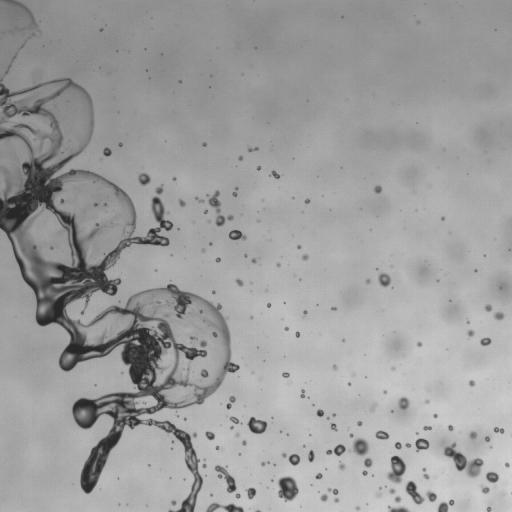droplet: (386, 455, 406, 483), (277, 476, 298, 501), (350, 438, 369, 455), (247, 417, 267, 433), (282, 453, 300, 465), (378, 271, 390, 287), (437, 500, 454, 511), (415, 438, 429, 451), (228, 230, 246, 240), (138, 173, 150, 185), (398, 397, 409, 409), (485, 472, 498, 482), (375, 430, 388, 439), (246, 487, 255, 499), (480, 337, 491, 345), (205, 431, 214, 440), (270, 170, 280, 178), (103, 147, 111, 156), (308, 450, 314, 462), (364, 458, 372, 467), (480, 485, 489, 493), (494, 312, 504, 319), (328, 488, 337, 495), (493, 427, 503, 433), (374, 185, 381, 193), (316, 409, 323, 417), (330, 423, 337, 431), (469, 431, 476, 439), (178, 199, 185, 206), (49, 242, 56, 249), (236, 279, 243, 286), (320, 494, 327, 501), (370, 403, 376, 411), (339, 462, 345, 470), (196, 197, 203, 203), (485, 304, 491, 311), (468, 380, 475, 386), (395, 442, 401, 449), (315, 473, 322, 479), (394, 496, 401, 502), (302, 254, 308, 260), (467, 330, 473, 336), (389, 488, 395, 494), (282, 372, 289, 377), (423, 426, 431, 430), (94, 244, 99, 250), (357, 421, 362, 426), (448, 425, 453, 430), (362, 470, 367, 475), (235, 493, 240, 498), (376, 492, 381, 497), (171, 500, 176, 505), (486, 506, 491, 511), (416, 342, 422, 346), (13, 156, 17, 161), (216, 257, 220, 262), (252, 258, 256, 263), (303, 310, 307, 315), (295, 332, 299, 337), (333, 365, 337, 370), (485, 436, 489, 441), (242, 440, 246, 445), (202, 463, 206, 468), (261, 462, 266, 466), (505, 462, 509, 467), (334, 498, 339, 502), (118, 142, 122, 146), (202, 142, 206, 146), (238, 156, 242, 160), (305, 199, 309, 203), (297, 245, 301, 249), (366, 279, 370, 283), (284, 326, 288, 330), (433, 414, 437, 418), (349, 433, 353, 437), (406, 443, 410, 447), (331, 307, 336, 310), (276, 263, 280, 266), (267, 303, 270, 307), (425, 399, 428, 403), (235, 433, 239, 436), (356, 506, 359, 510), (20, 45, 23, 48), (257, 166, 260, 169), (204, 210, 207, 213), (202, 249, 205, 252), (392, 366, 395, 369), (383, 390, 386, 393), (216, 446, 219, 449), (100, 28, 102, 31), (173, 177, 175, 180), (441, 217, 444, 219), (244, 254, 247, 256), (212, 291, 215, 293), (332, 414, 335, 416), (230, 426, 233, 428), (66, 98, 68, 100), (475, 269, 477, 271), (348, 383, 350, 385), (379, 487, 381, 489)
ligament: (0, 52, 238, 511), (0, 0, 39, 37), (444, 443, 483, 477), (207, 190, 233, 226), (405, 480, 436, 504), (214, 465, 236, 493), (206, 502, 244, 511), (326, 444, 346, 455), (226, 396, 235, 409), (388, 506, 409, 511), (229, 416, 241, 424), (422, 468, 429, 479), (300, 389, 305, 398), (233, 187, 237, 196), (249, 147, 257, 151), (91, 214, 96, 218), (255, 510, 260, 511)
